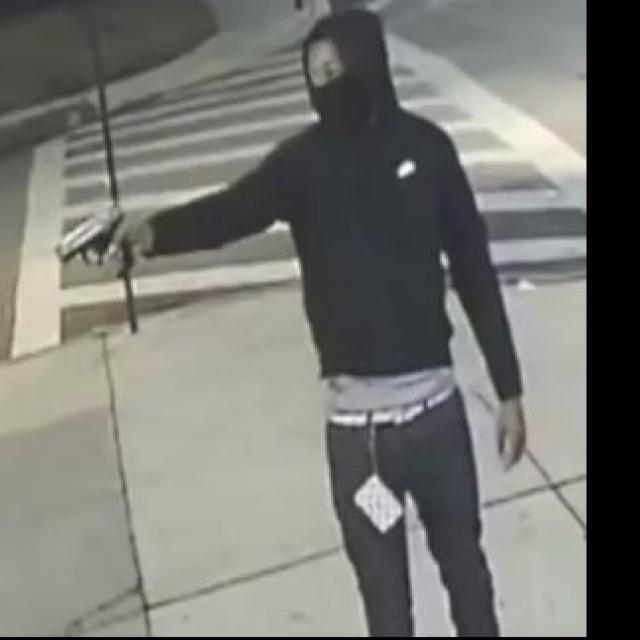Gun: (52, 204, 136, 272)
